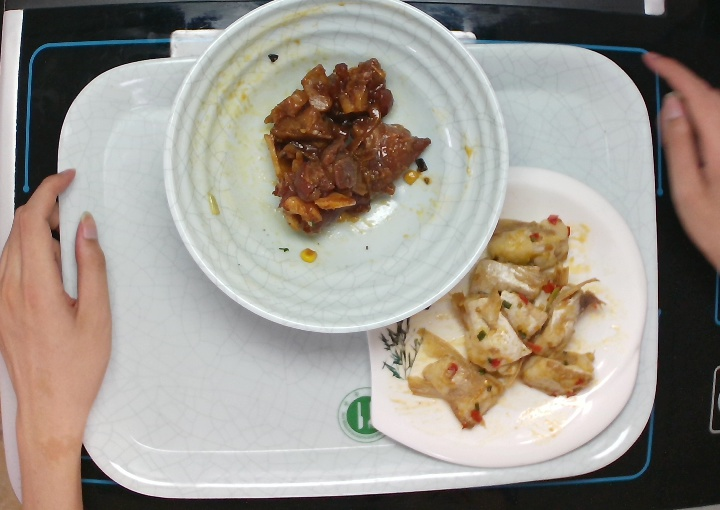JYsf-Da_Tang_Wan: (160, 1, 511, 333)
JYsf-Mian_Pan: (366, 166, 648, 471)
